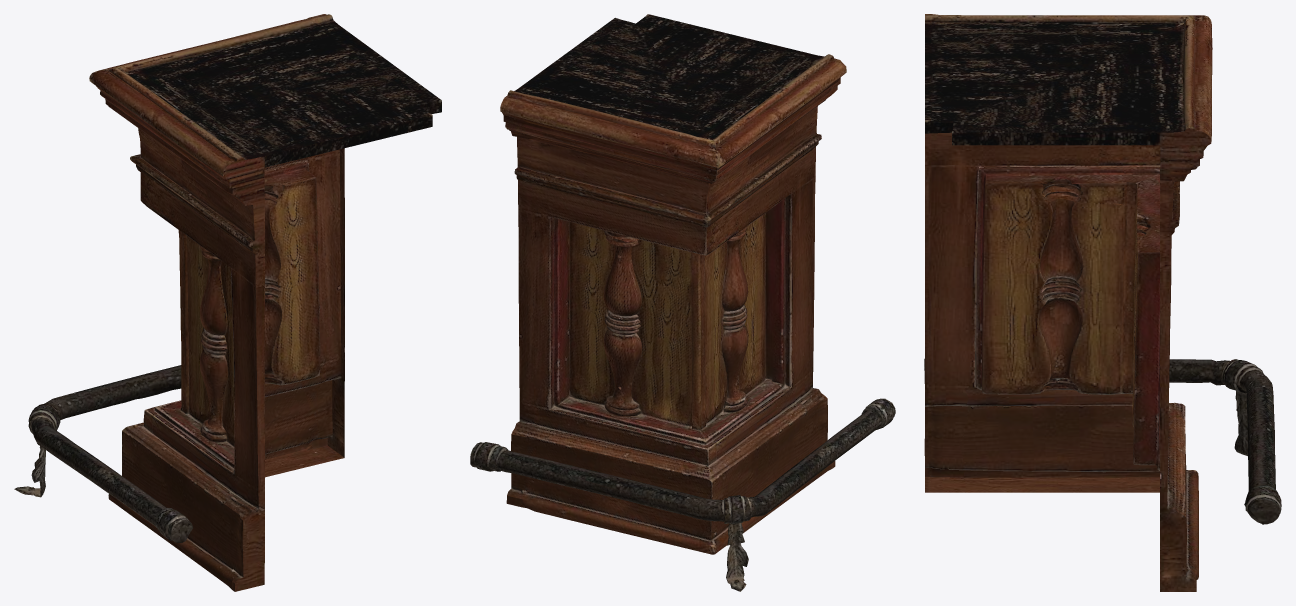
Rendered from bar-counter-corner.glb.
The picture shows the model from 3 angles, left to right: view 1: azimuth 30°, elevation 25°; view 2: azimuth 150°, elevation 25°; view 3: azimuth 270°, elevation 25°; orthographic projection. The views are drawn at different scales.
Parts seen in each view (by area): view 1: bar-counter-corner; view 2: bar-counter-corner; view 3: bar-counter-corner.
Part boxes in pixels (box(x1,y1,x2,y2)): bar-counter-corner: box(14, 14, 441, 591); bar-counter-corner: box(470, 14, 895, 591); bar-counter-corner: box(924, 14, 1281, 591).
Bounding box in the file's own units: 0.7336 × 1.06 × 0.7394.
1 material, 1 textured.
